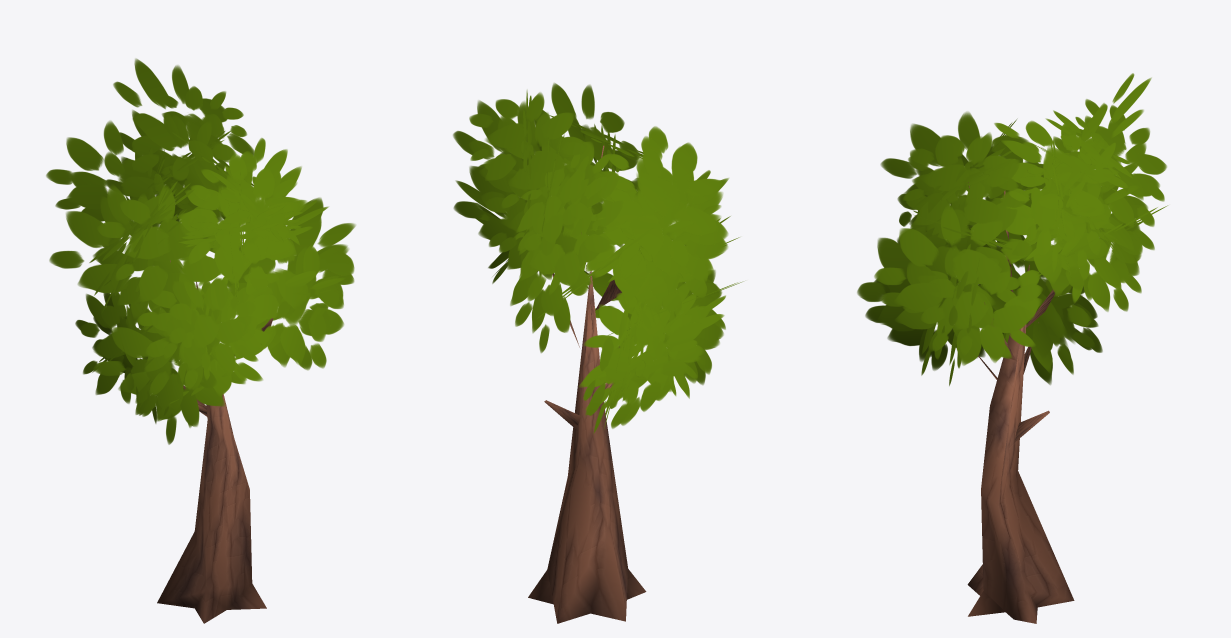
The model's file is broad-4-far.glb.
The picture shows the model from 3 angles, left to right: view 1: azimuth 30°, elevation 25°; view 2: azimuth 150°, elevation 25°; view 3: azimuth 270°, elevation 25°; orthographic projection. The views are drawn at different scales.
Visible parts, largest first — view 1: CommonTree_5; view 2: CommonTree_5; view 3: CommonTree_5.
Boxes of the visible parts, x1,y1,x2,y2 form: CommonTree_5: (46,58,355,623); CommonTree_5: (453,83,743,623); CommonTree_5: (857,73,1168,623).
Size of the model in its own units: 4.81 by 7.36 by 4.77.
2 materials, 2 textured.
